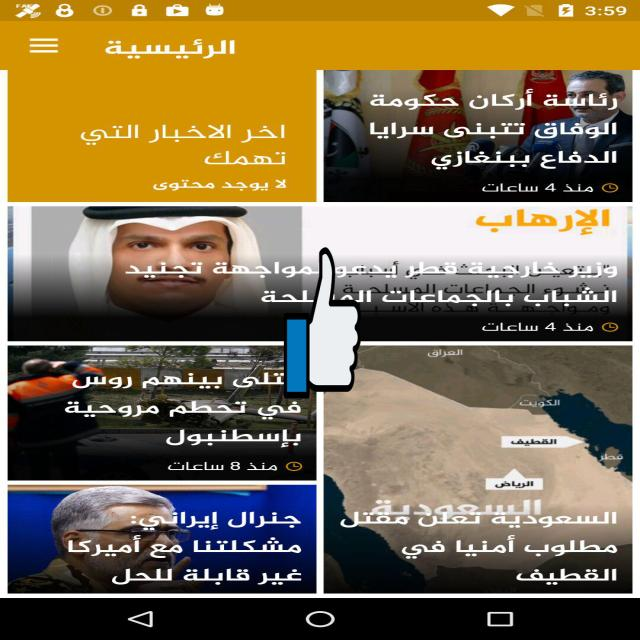privacy zuckering: (284, 244, 361, 402)
